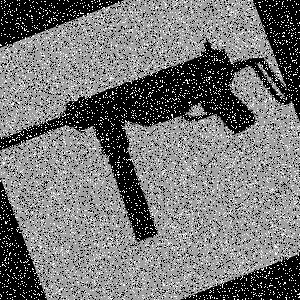SMG: (0, 17, 300, 279)
